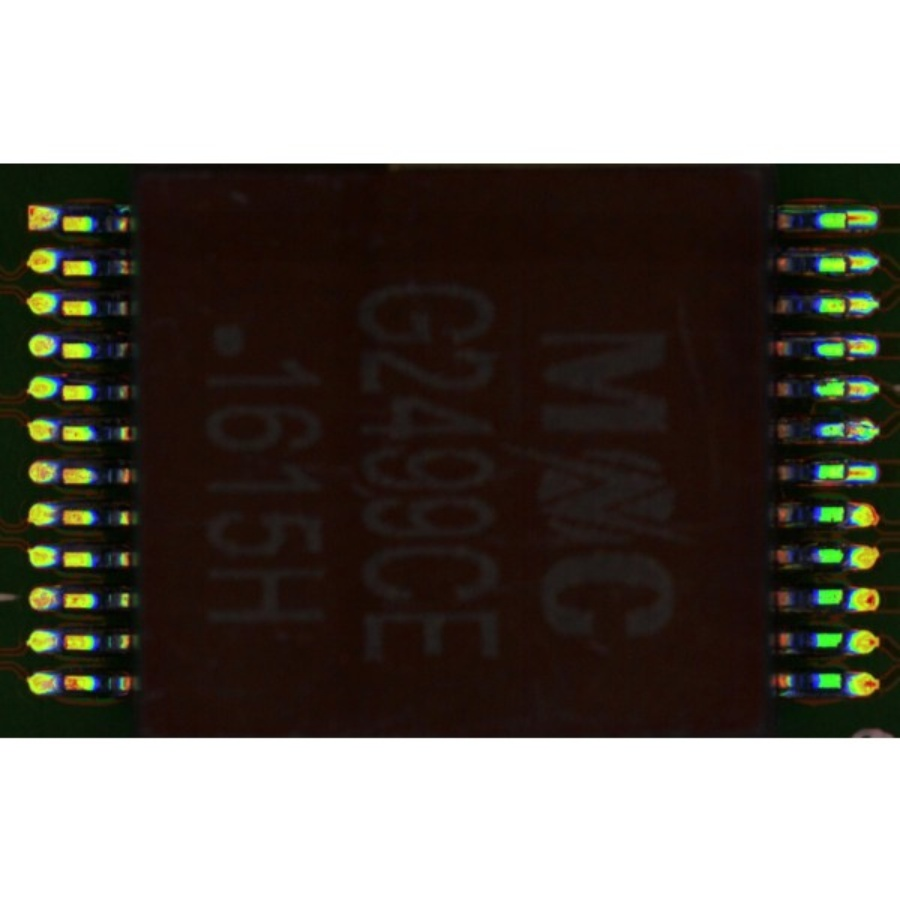Bad_podu: (831, 467, 867, 479), (836, 341, 865, 353), (832, 258, 863, 268), (835, 383, 864, 392), (836, 425, 859, 435), (834, 214, 864, 221)
